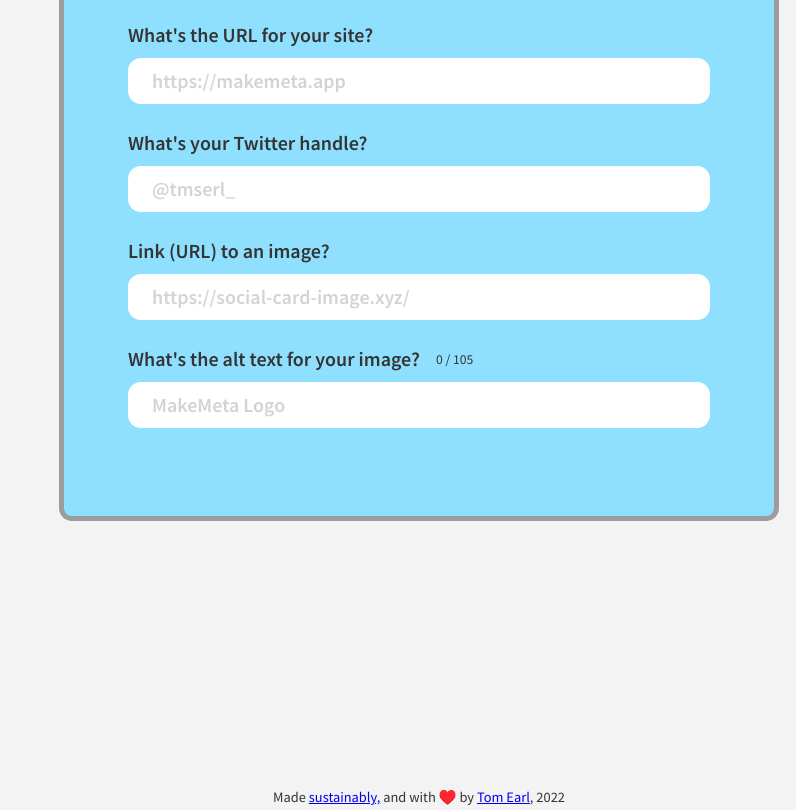
Scenario: App Input to Output › renders prints appropriate output when text is inputted into "Whats the alt text for your image?"
This screenshot has width=796, height=810.
(page scrolled)
Type "MakeMeta" into the field with placeholder "MakeMeta Logo" at (419, 405), box [128,382,710,428]
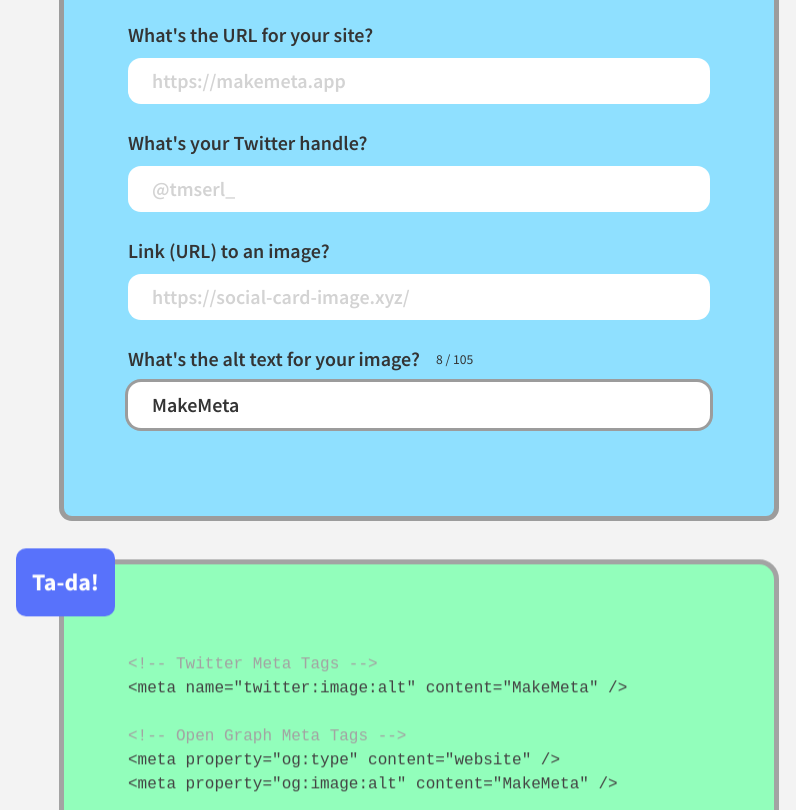
Expected: the text "<meta property=\"og:image:alt\" content=\"MakeMeta\" />" is shown, [128,776,618,794]
